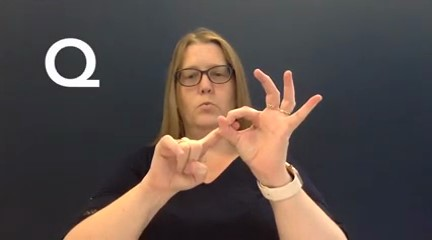Q: (135, 64, 327, 192)
